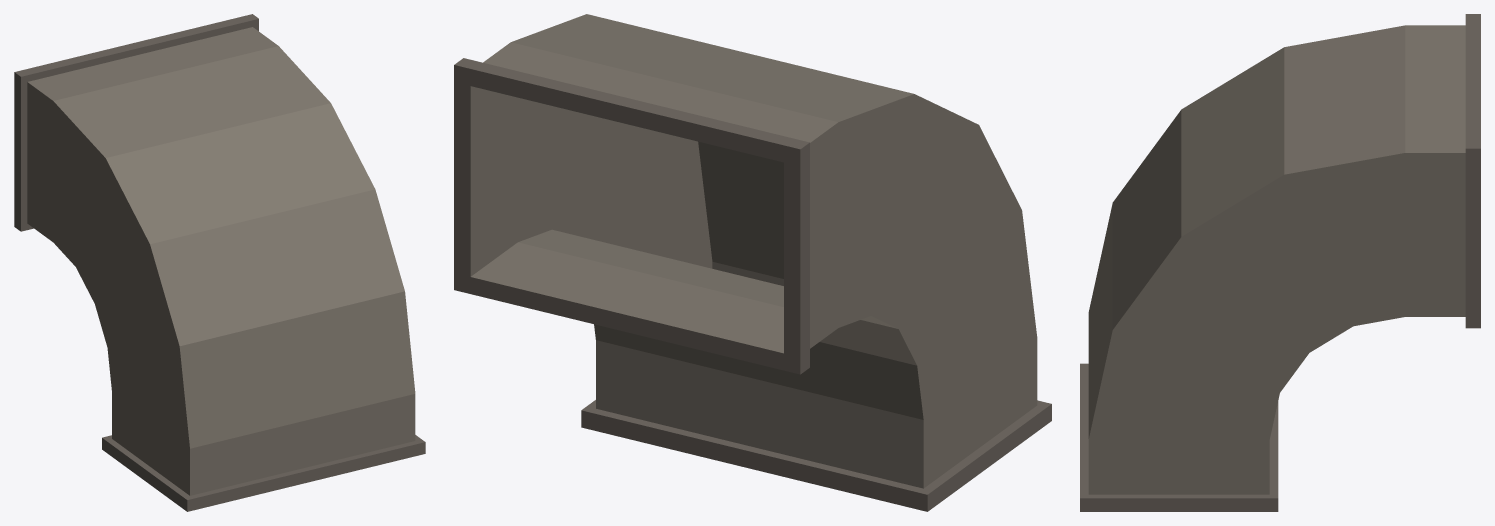
The model's file is SM_Props_Roof_Vent_Bend_01.fbx.
3 renders of one model, left to right at view 1: azimuth 30°, elevation 25°; view 2: azimuth 150°, elevation 25°; view 3: azimuth 270°, elevation 25°, orthographic. The views are drawn at different scales.
Parts seen in each view (by area): view 1: SM_Props_Roof_Vent_Bend_01; view 2: SM_Props_Roof_Vent_Bend_01; view 3: SM_Props_Roof_Vent_Bend_01.
Boxes of the visible parts, box(x1,y1,x2,y2) form: SM_Props_Roof_Vent_Bend_01: box(14, 14, 425, 511); SM_Props_Roof_Vent_Bend_01: box(454, 14, 1051, 511); SM_Props_Roof_Vent_Bend_01: box(1080, 14, 1480, 511).
Bounding box in the file's own units: 106 × 133 × 133.
